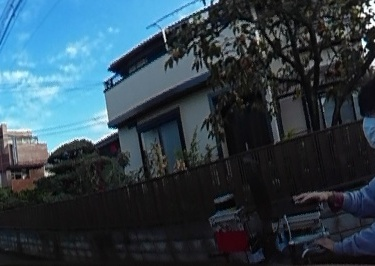person: (299, 78, 375, 266)
